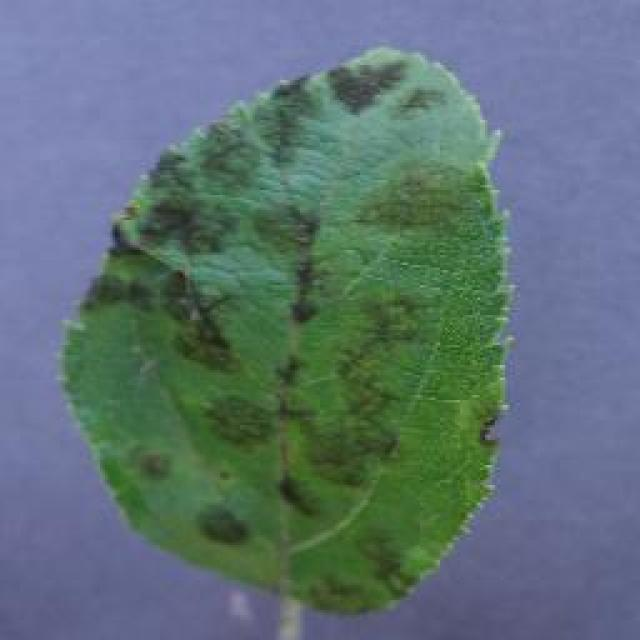apple scab disease: (55, 42, 517, 618)
